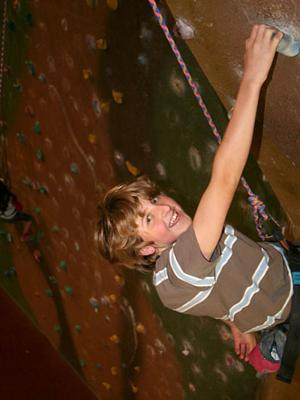person: (95, 23, 300, 383)
